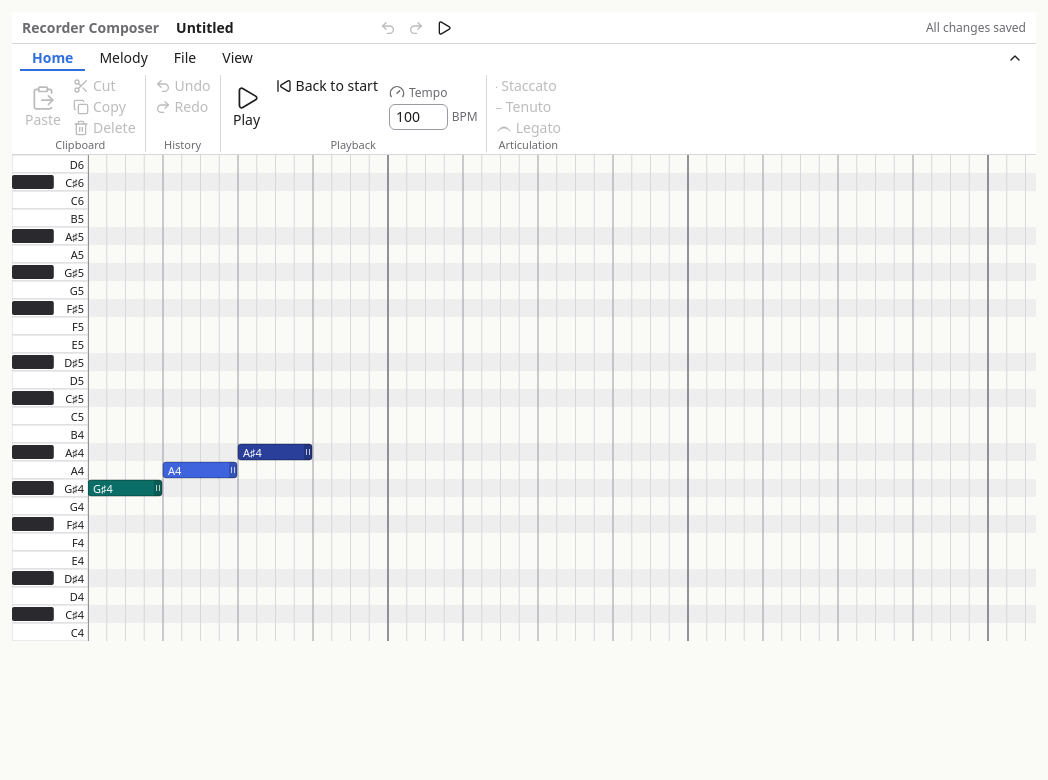
Test: Title bar and quick access (003 US2) › keeps Undo, Redo and Play reachable from any tab, in step with the Home tab
Expected: the button named "Undo" is disabled, [375,17,401,38]
Click the tab "File". click: (185, 58)
box: [162,45,208,71]
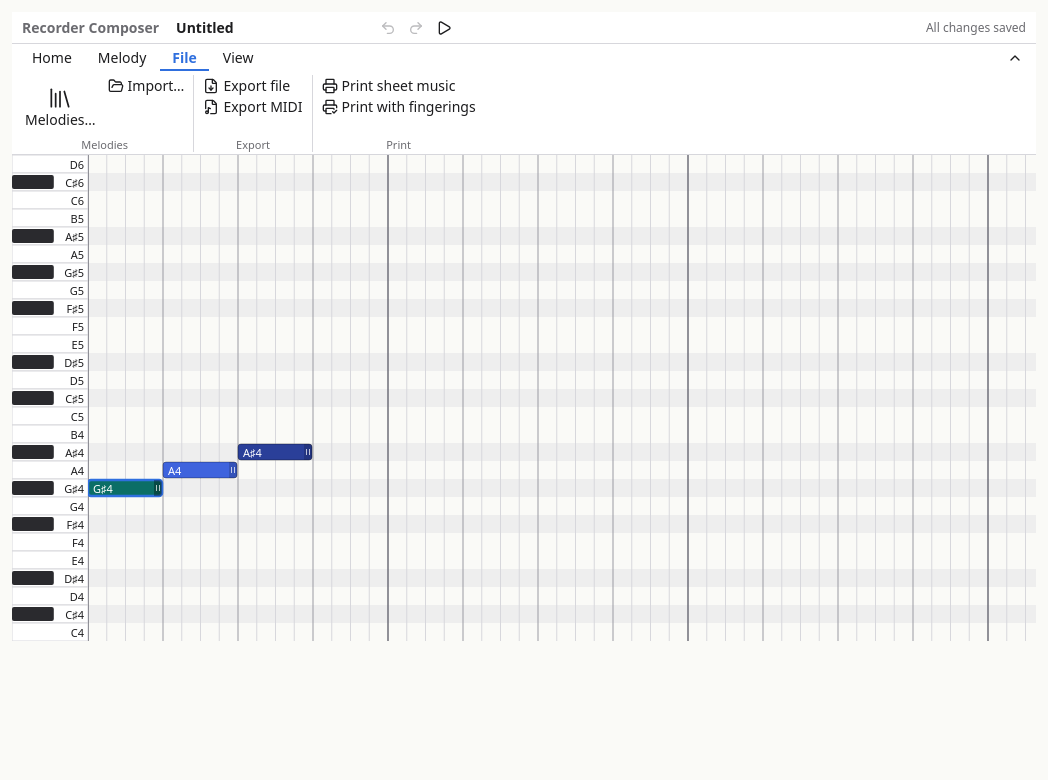
Press Delete
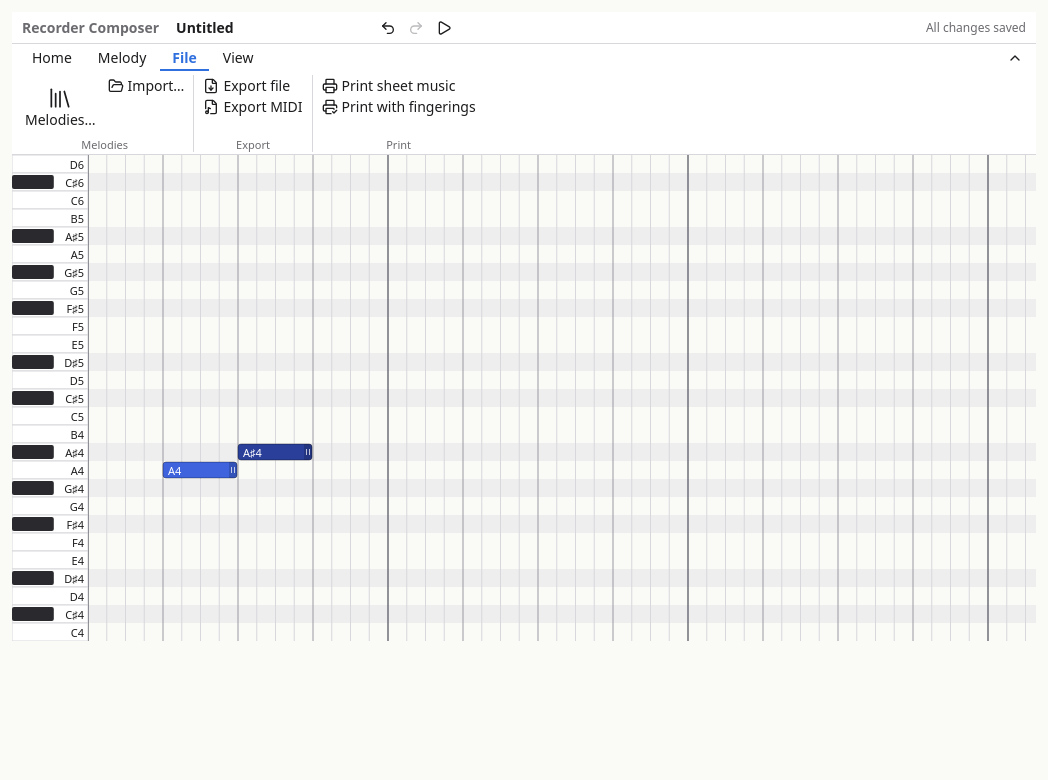
Click the button named "Undo". click: (388, 28)
box: [375,17,401,38]
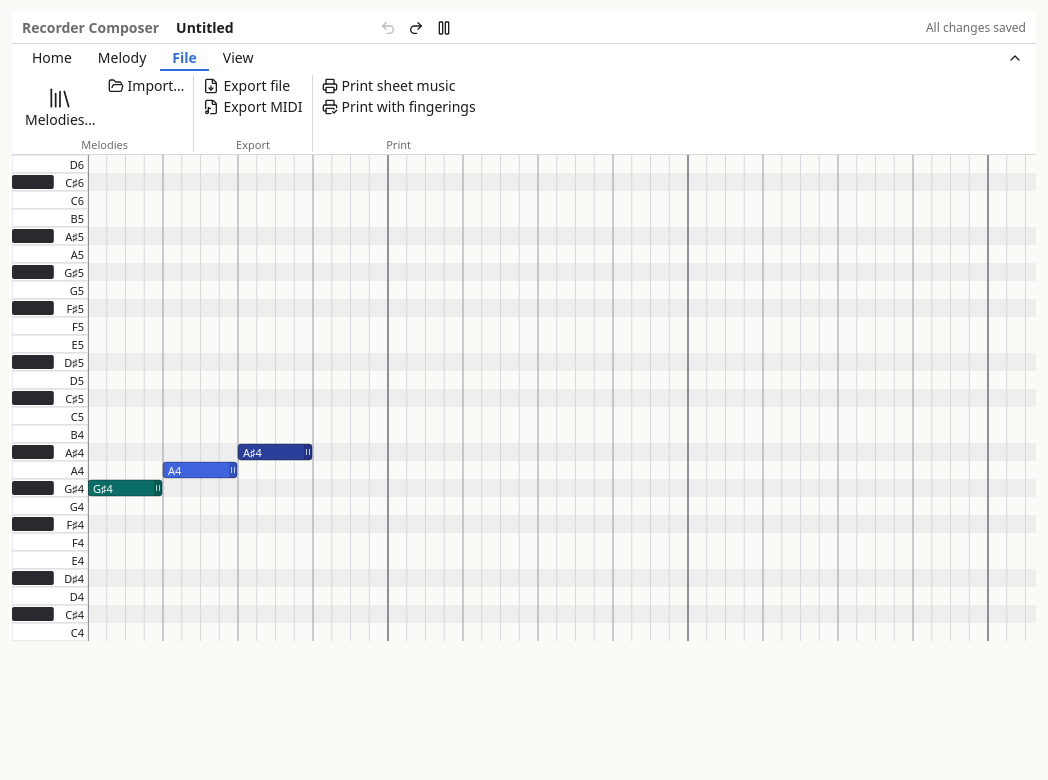
Expected: the button named "Pause" is shown, [431,17,457,38]
Click the tab "Home". click: (52, 58)
box: [20,45,84,71]
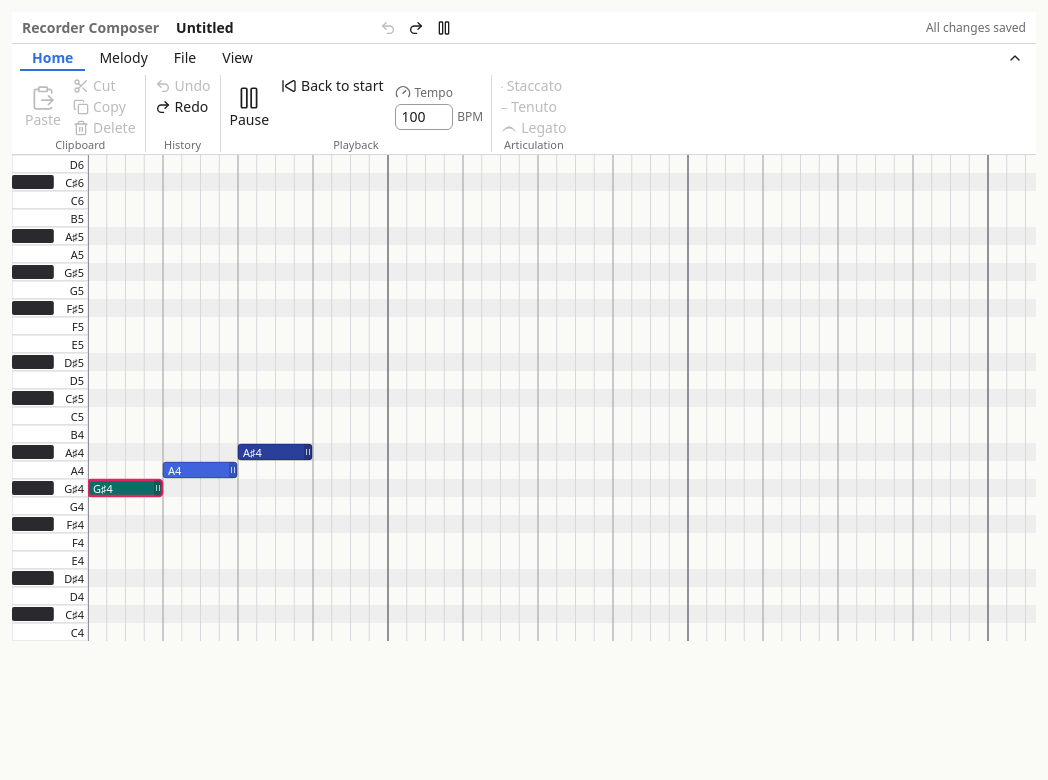
Expected: the button "Pause" is shown, [224,75,274,138]
